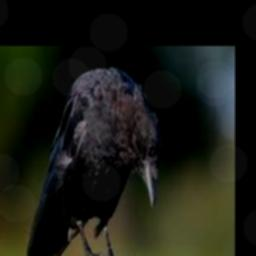Crow: (26, 67, 160, 256)
